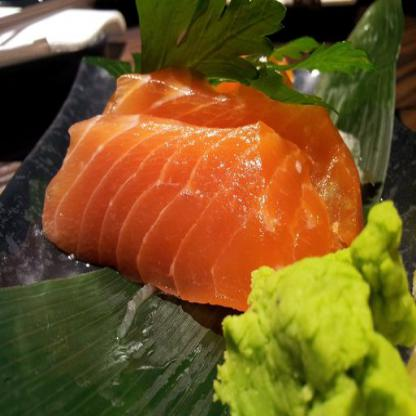salmon: (49, 64, 363, 310)
